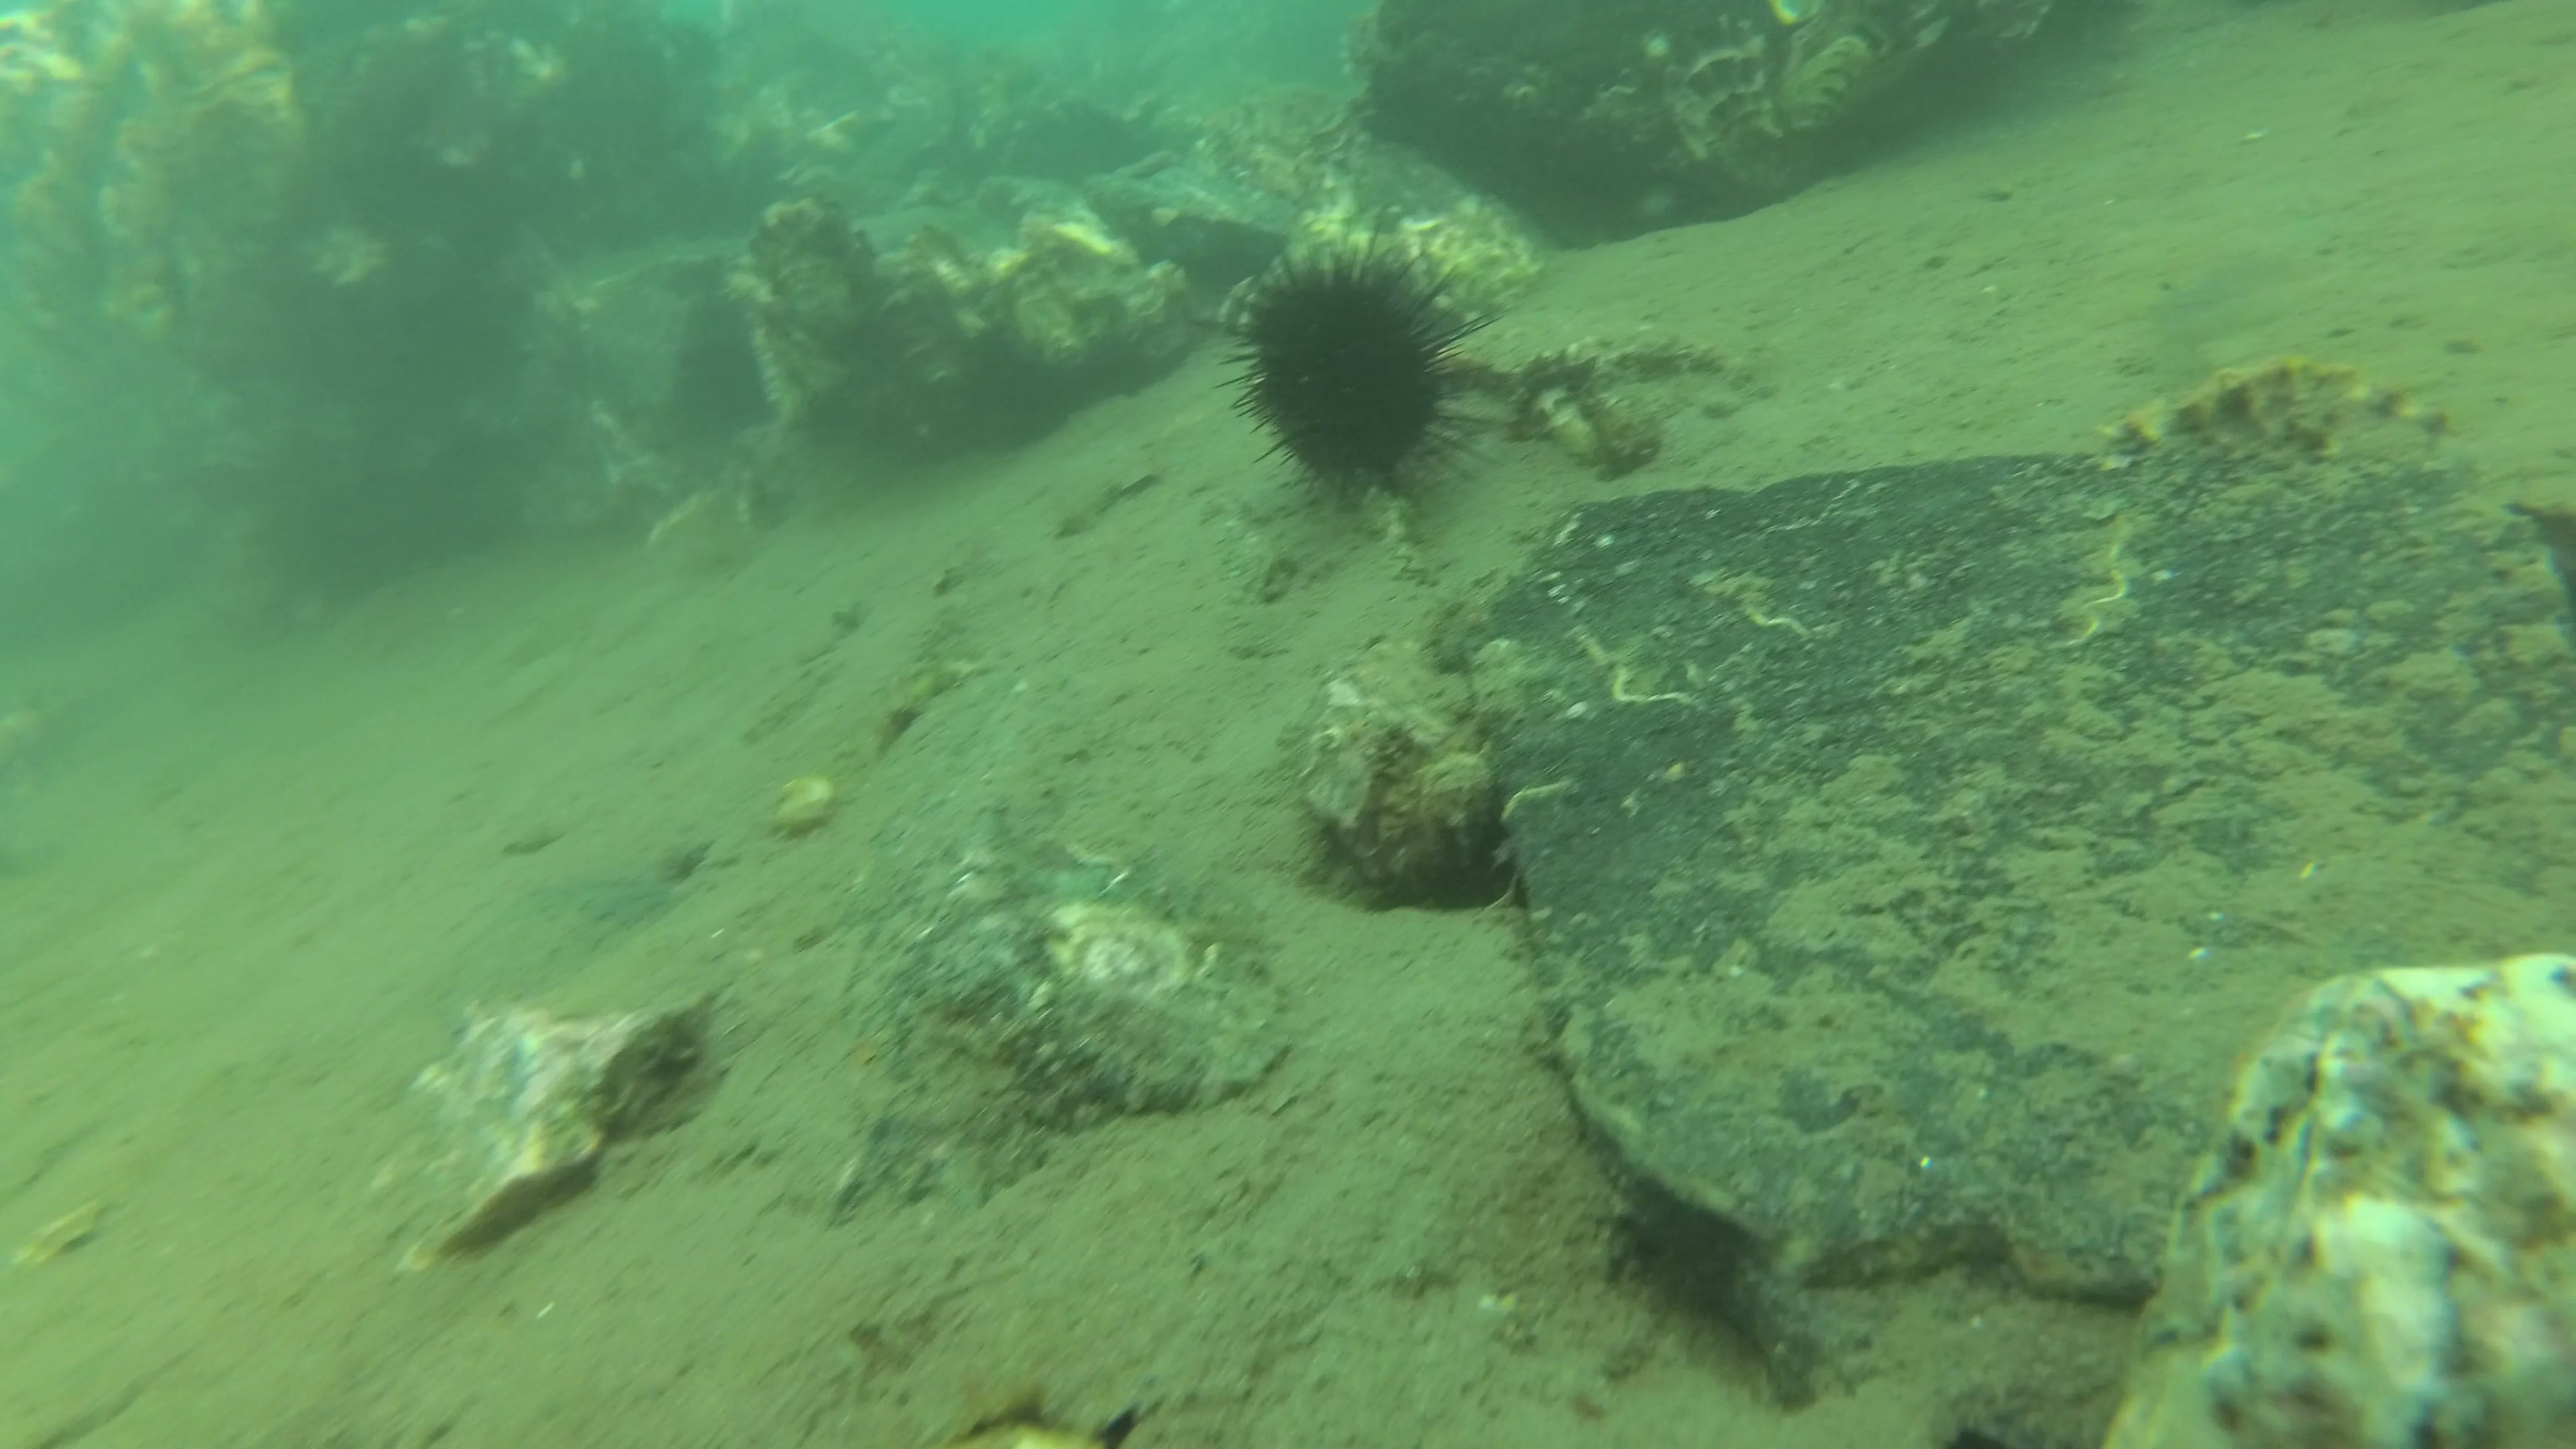echinus: (1191, 211, 1513, 511), (663, 338, 773, 437)
